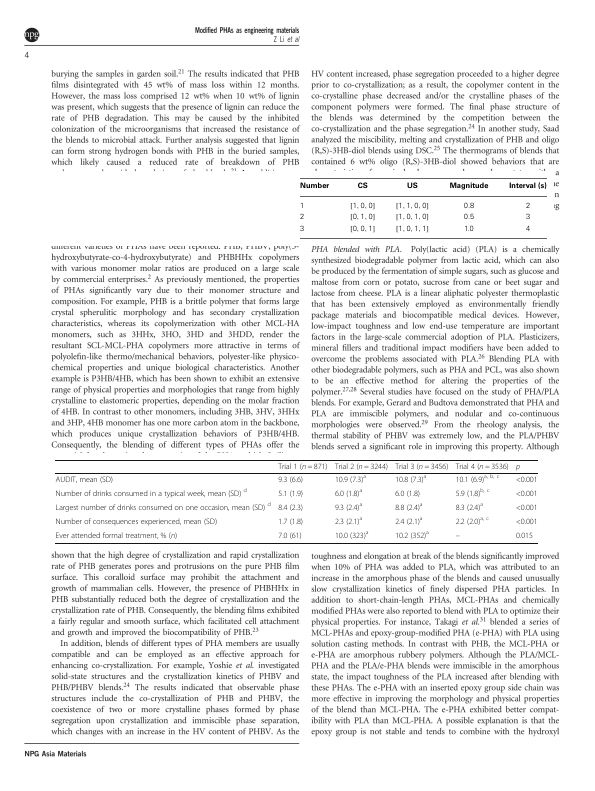borderless: (54, 458, 538, 543), (299, 176, 547, 238)
cell: (55, 501, 272, 513), (55, 487, 248, 499), (55, 517, 218, 527), (55, 531, 178, 541), (55, 475, 114, 485), (455, 473, 500, 485), (334, 462, 389, 471), (394, 462, 449, 471), (455, 462, 510, 471), (277, 462, 328, 471), (394, 529, 430, 541), (455, 487, 490, 499), (455, 515, 490, 527), (334, 529, 369, 541), (334, 473, 367, 485), (394, 473, 427, 485), (448, 182, 489, 191), (508, 182, 547, 191), (334, 487, 363, 499), (334, 501, 363, 513), (394, 501, 423, 513), (455, 501, 484, 513), (334, 515, 363, 527), (394, 515, 423, 527), (394, 201, 429, 210), (394, 224, 429, 233), (298, 182, 330, 191), (394, 213, 429, 221), (277, 475, 304, 485), (277, 489, 304, 499), (394, 489, 421, 499), (277, 503, 304, 513), (277, 517, 304, 527), (277, 531, 302, 541), (349, 201, 376, 210), (349, 224, 376, 233), (515, 475, 538, 485), (515, 489, 538, 499), (515, 503, 538, 513), (515, 517, 538, 527), (349, 213, 376, 221), (515, 531, 534, 541), (405, 182, 418, 191), (356, 182, 368, 191), (462, 201, 475, 209), (462, 213, 475, 220), (463, 224, 474, 232), (298, 201, 305, 209), (524, 201, 530, 209), (299, 224, 305, 232), (524, 224, 530, 232), (299, 213, 305, 220), (524, 213, 530, 220), (515, 464, 521, 471), (455, 535, 461, 539)
